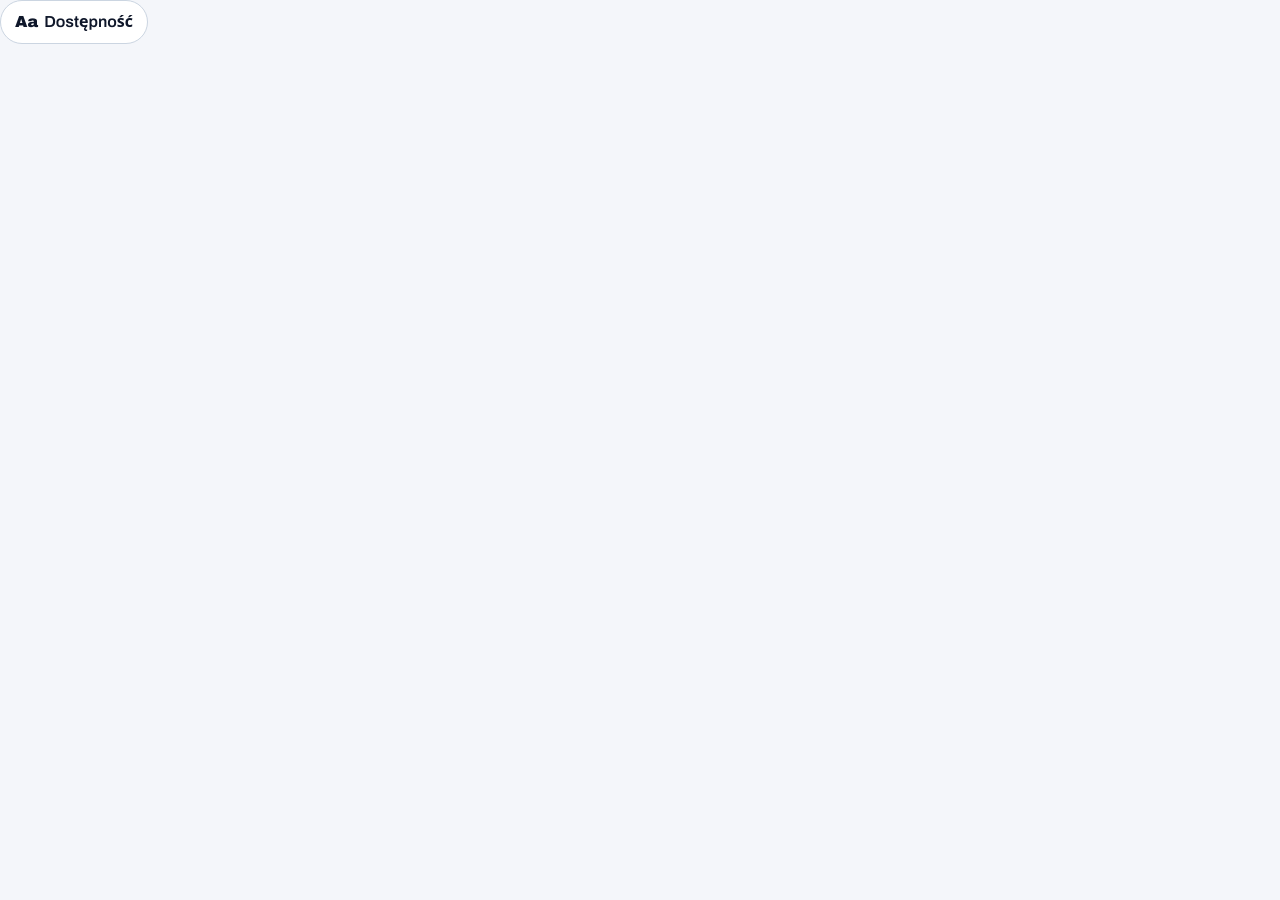
menu Dostępność › otwiera się, zmienia rozmiar tekstu i kontrast, zapamiętuje wybór i przywraca domyślne
Later steps or results of the test are not shown.
Click the button "Aa Dostępność": click(74, 22) [0,0,148,44]
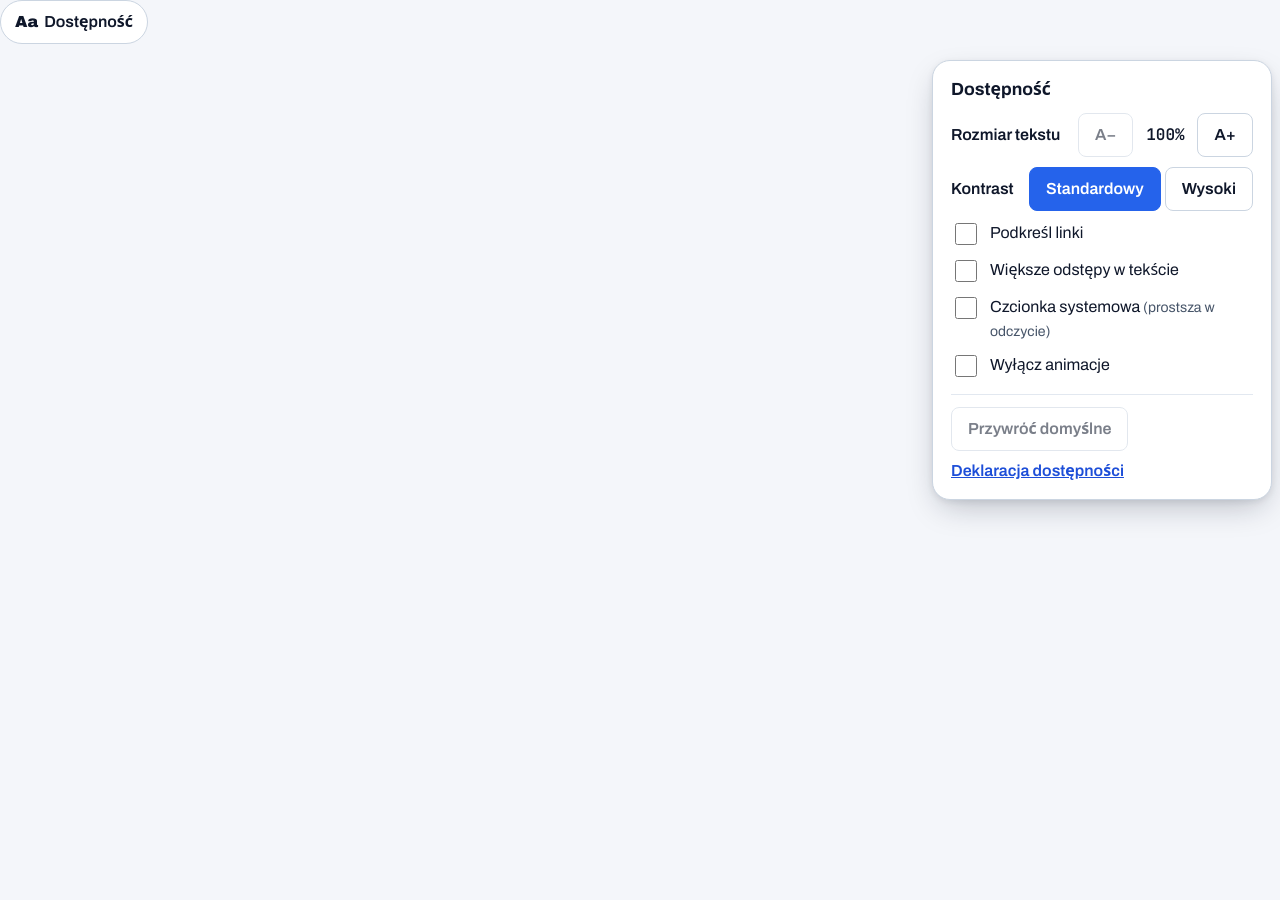
Click the button named "Powiększ tekst": click(1225, 135) [1198,113,1253,157]
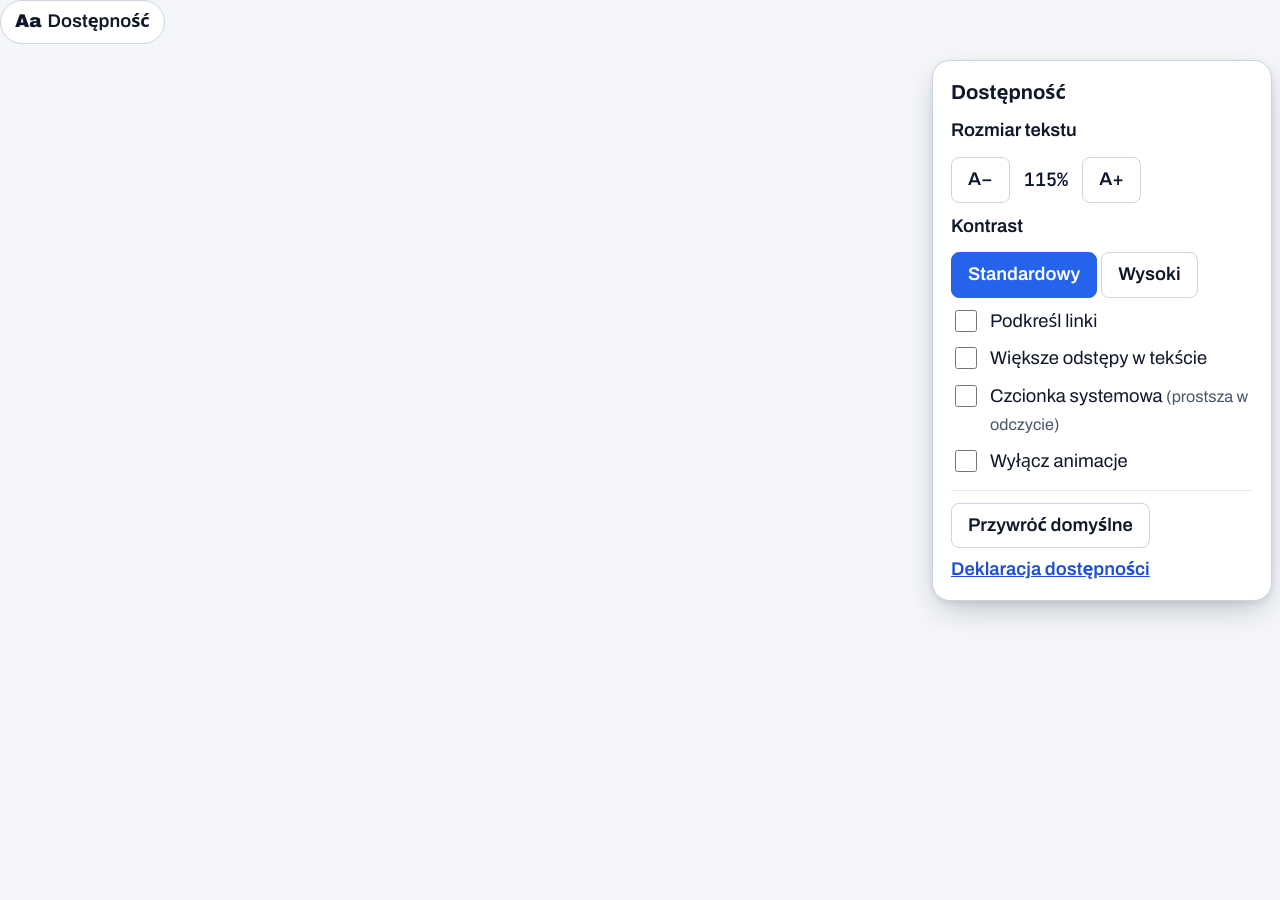
Now the text "115%" is shown, box [1024,167,1068,192]
Click the button "Wysoki": click(1149, 275) [1101,252,1198,298]
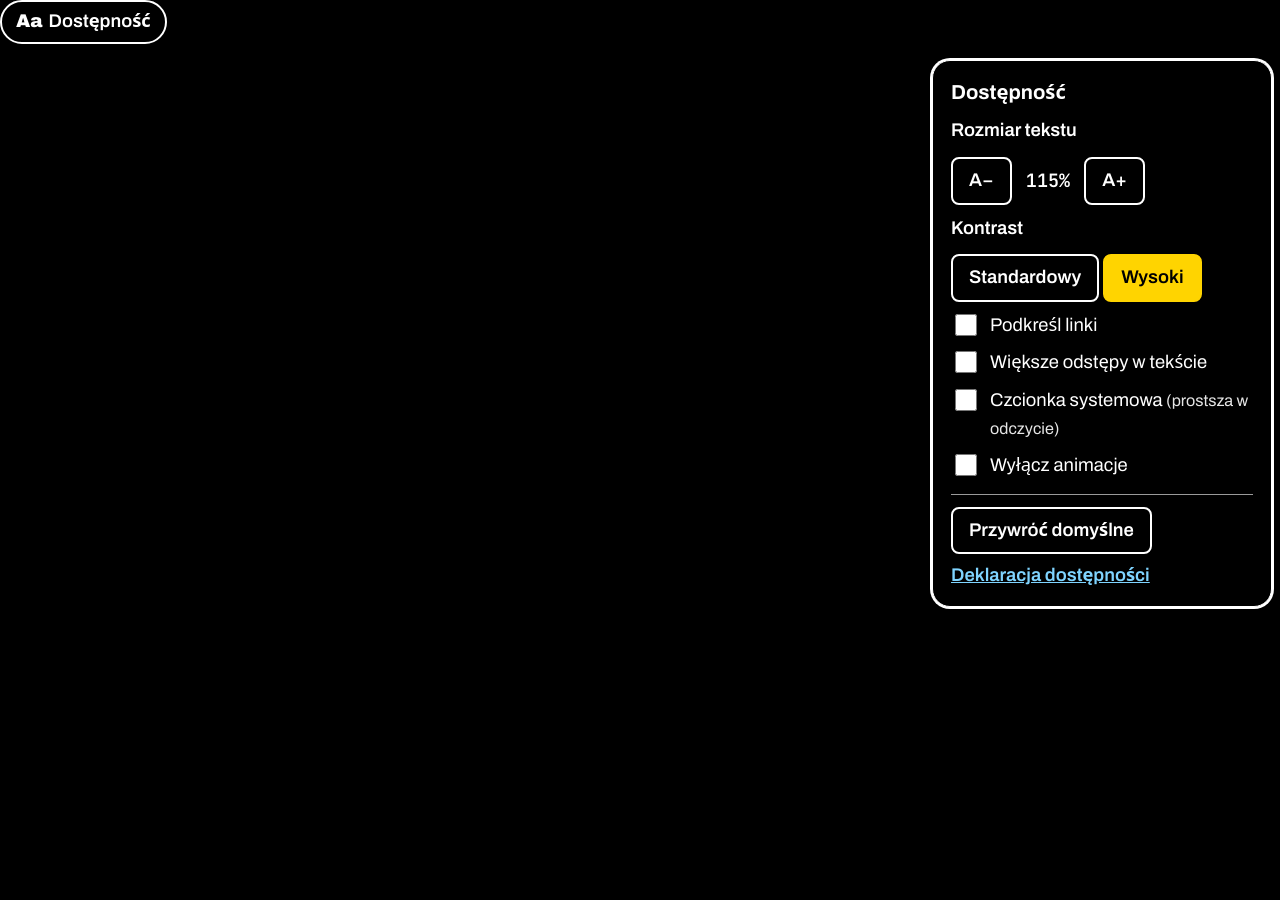
Now the button "Wysoki" is pressed, box [1103,254,1202,302]
